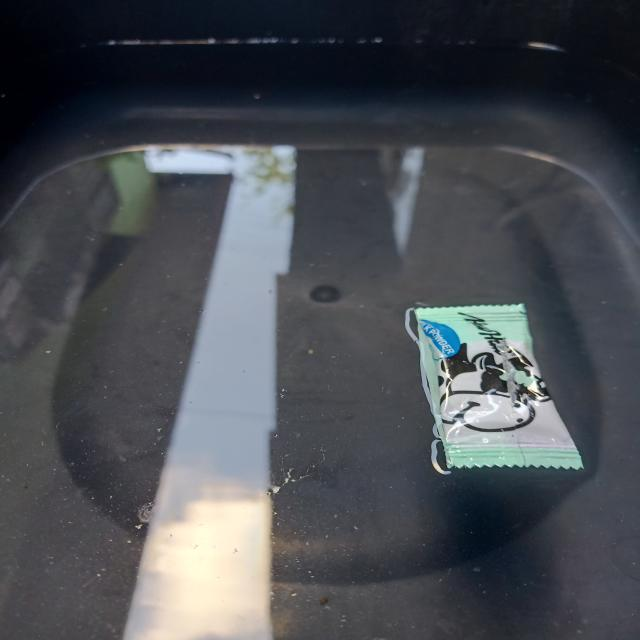Plastic Wrapper: (393, 287, 587, 489)
